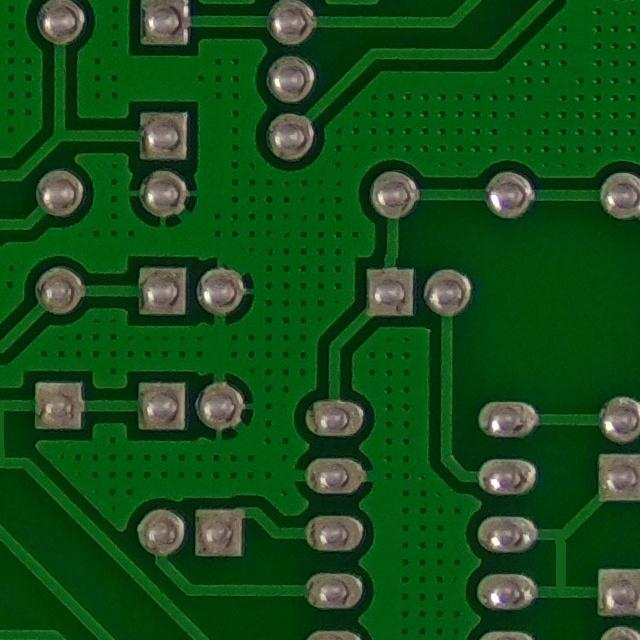short: (518, 524, 602, 608), (0, 387, 46, 486)
